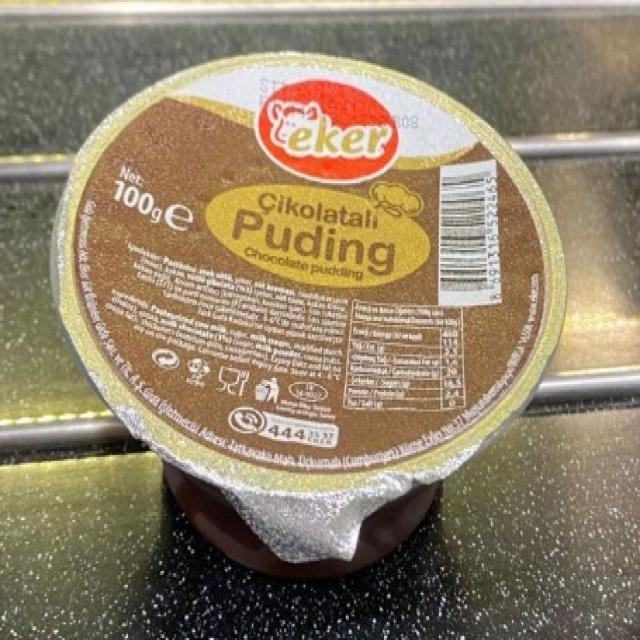yan_yemek: (48, 47, 568, 573)
